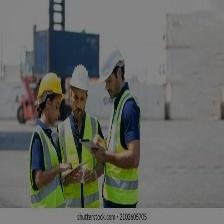Person: (101, 48, 140, 203), (29, 61, 63, 204), (64, 60, 95, 207)
helmet: (101, 42, 122, 82), (40, 73, 64, 106), (70, 62, 89, 96)
vest: (103, 90, 142, 214), (64, 113, 101, 204), (30, 121, 64, 209)
